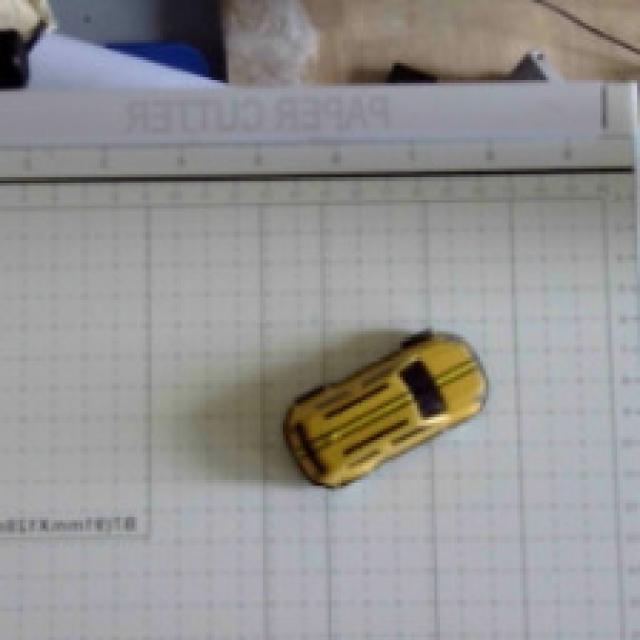Yellow Car: (222, 281, 512, 529)
